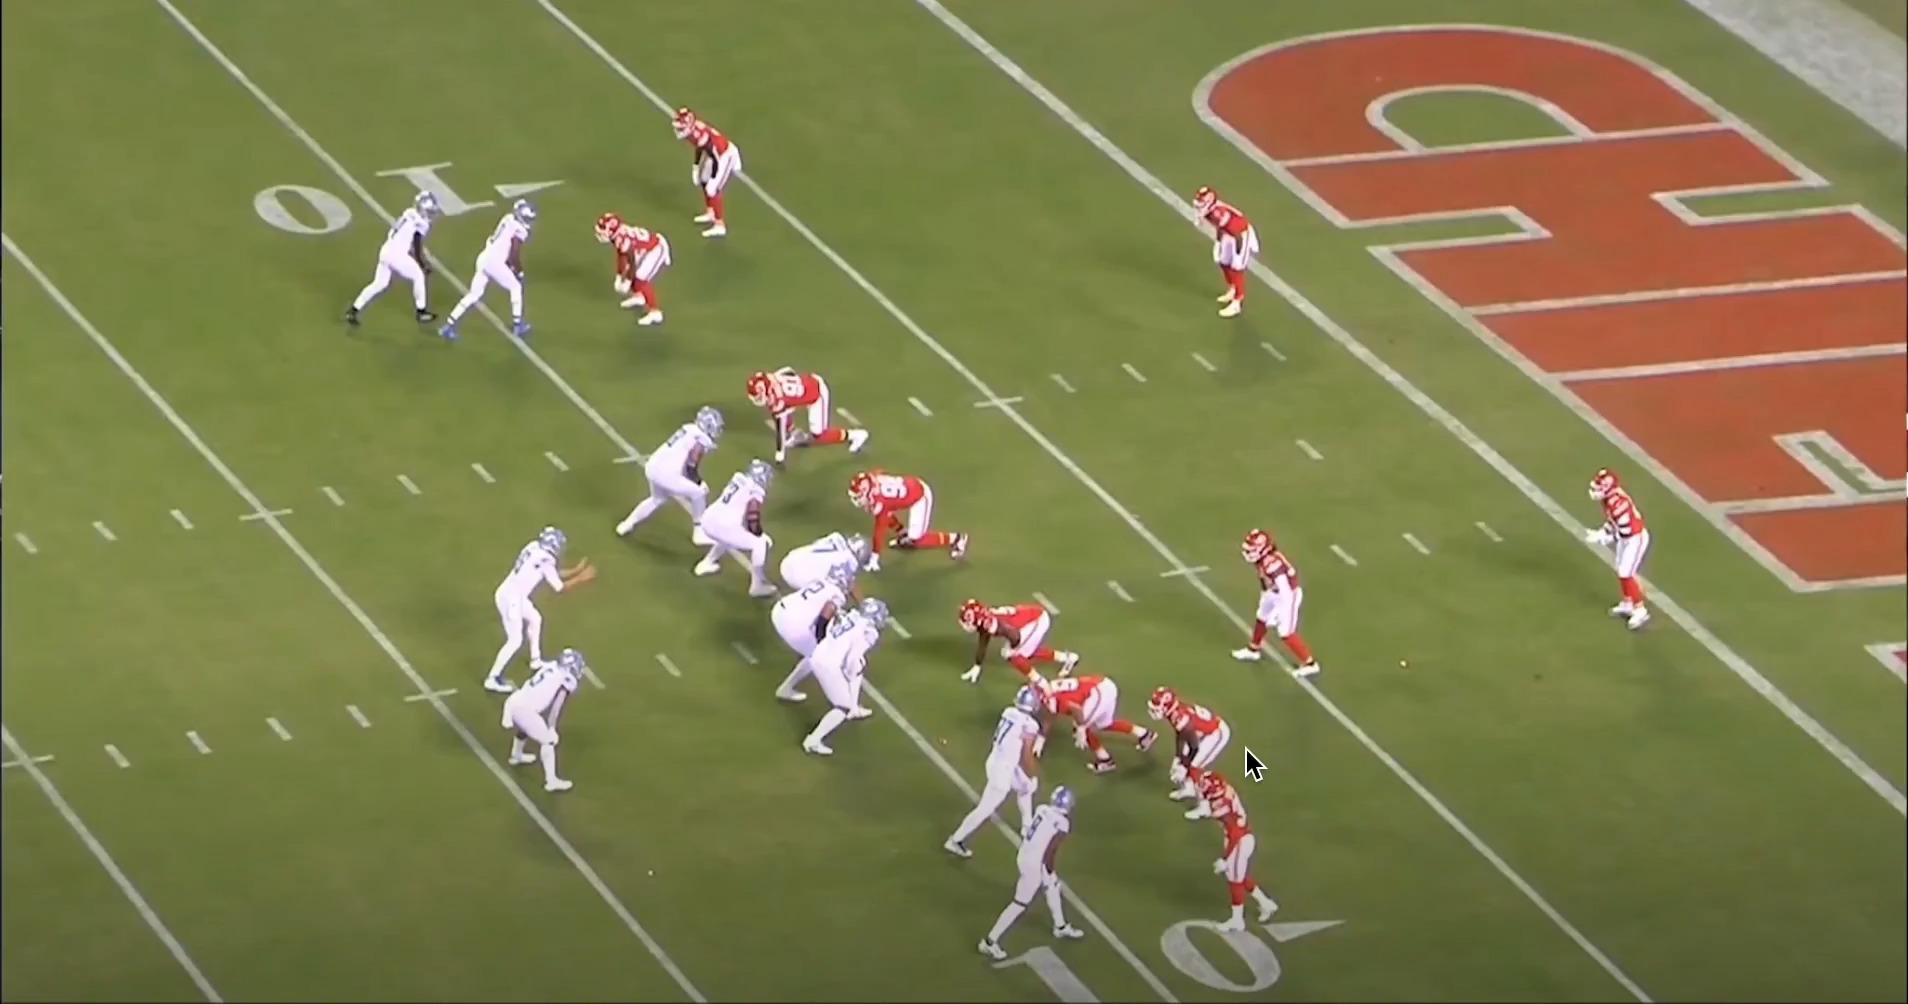player: (986, 785, 1100, 967), (948, 681, 1056, 863), (1147, 689, 1274, 827), (490, 525, 586, 696), (615, 408, 728, 551), (335, 190, 443, 334), (438, 199, 541, 349), (807, 601, 901, 760), (1237, 522, 1330, 682), (1024, 668, 1160, 777), (1202, 768, 1287, 934), (508, 640, 598, 791), (853, 472, 978, 572), (752, 369, 880, 466), (772, 562, 860, 703), (1590, 467, 1661, 637), (955, 599, 1080, 692), (693, 463, 778, 599), (666, 105, 744, 245), (1186, 181, 1258, 321), (597, 207, 677, 327), (778, 533, 873, 618)
